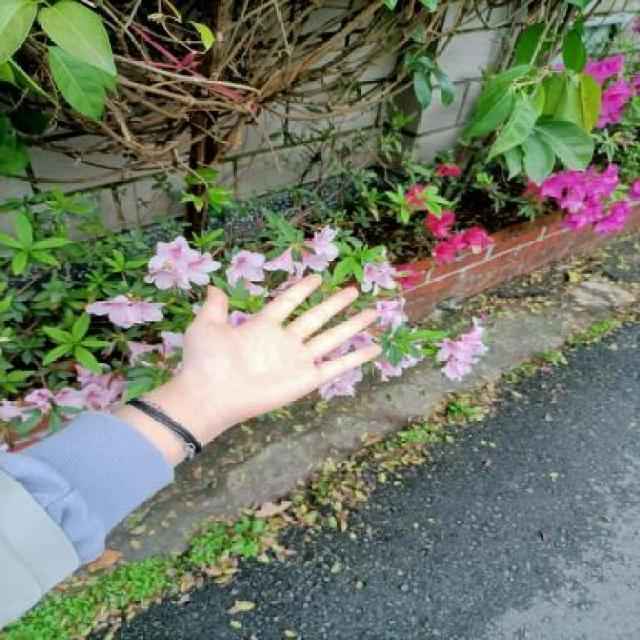hand: (145, 264, 390, 436)
